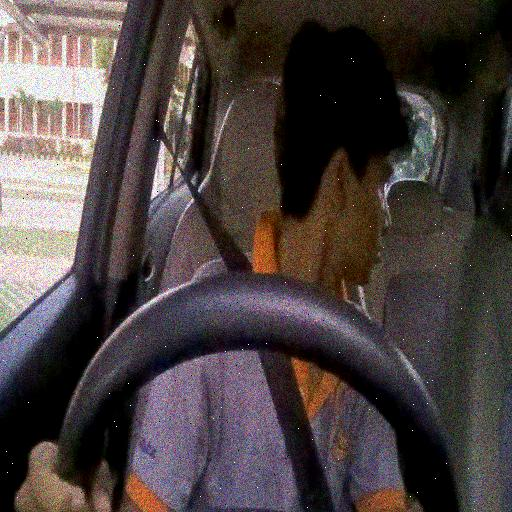Reaching_behind: (93, 22, 418, 493)
